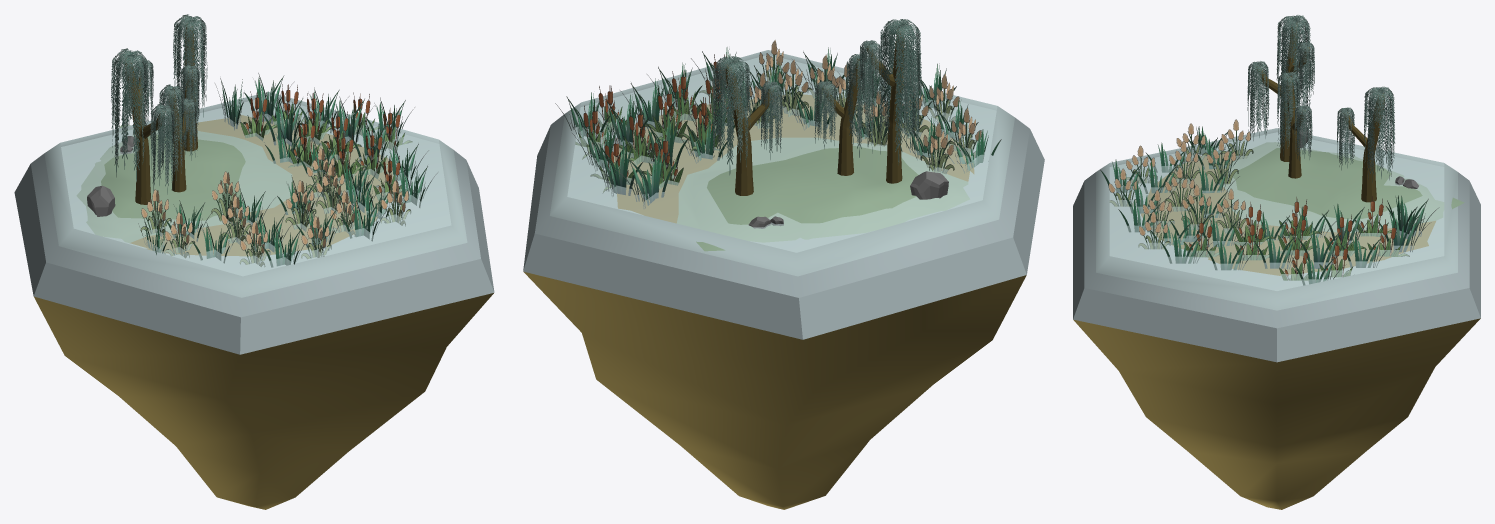
File: Basic Habitat_1.4.fbx
3 views of the same model, side by side, from view 1: azimuth 30°, elevation 25°; view 2: azimuth 150°, elevation 25°; view 3: azimuth 270°, elevation 25° (orthographic). The views are drawn at different scales.
Parts seen in each view (by area): view 1: polySurface2374; view 2: polySurface2374; view 3: polySurface2374.
Part boxes in pixels (<box>): polySurface2374: <box>14,14,494,509</box>; polySurface2374: <box>523,19,1044,509</box>; polySurface2374: <box>1073,15,1480,509</box>.
Bounding box in the file's own units: 11.53 × 11.78 × 9.99.
13 materials, 4 textured.
